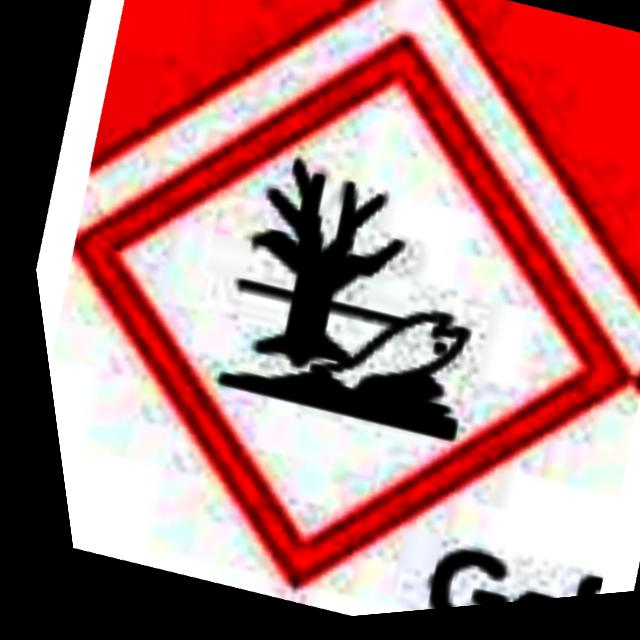hazardous to the environment: (183, 139, 517, 463)
